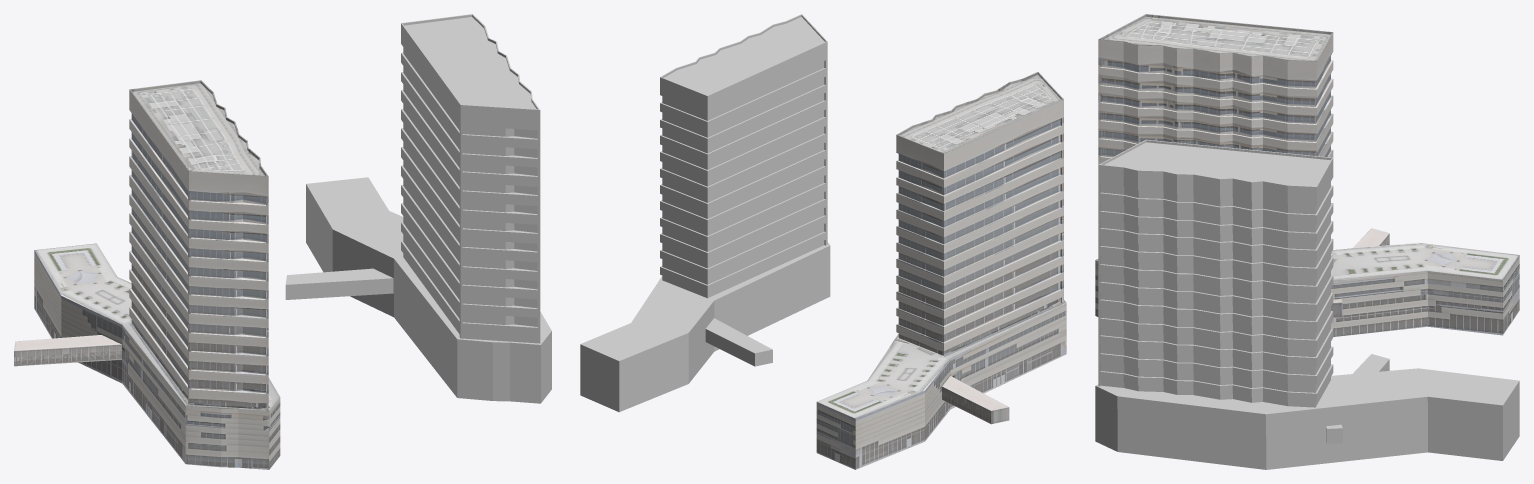
The model's file is non_text_Trial.glb.
The picture shows the model from 3 angles, left to right: view 1: azimuth 30°, elevation 25°; view 2: azimuth 150°, elevation 25°; view 3: azimuth 270°, elevation 25°; orthographic projection. The views are drawn at different scales.
Parts seen in each view (by area): view 1: 2, 2.001; view 2: 2, 2.001; view 3: 2.001, 2.
Part boxes in pixels (x1,y1,x2,y2): 2: (14,80,280,469); 2.001: (285,14,551,403); 2: (816,72,1066,469); 2.001: (580,14,830,412); 2.001: (1095,139,1519,469); 2: (1095,14,1519,336).
Size of the model in its own units: 127 by 80.14 by 111.
Materials: 2 (1 with a texture image).
